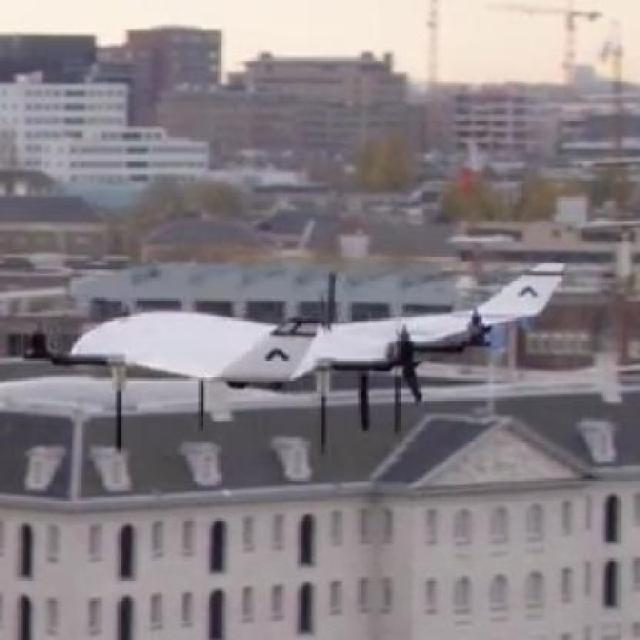iha: (31, 253, 583, 451)
